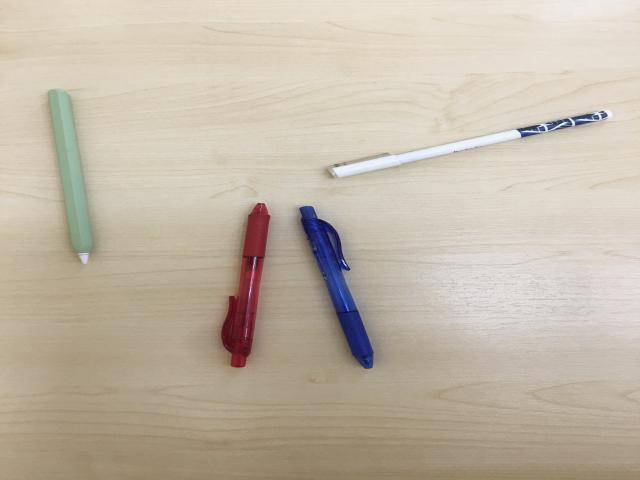Pen: (326, 111, 614, 179), (297, 206, 374, 371), (221, 203, 270, 370)
